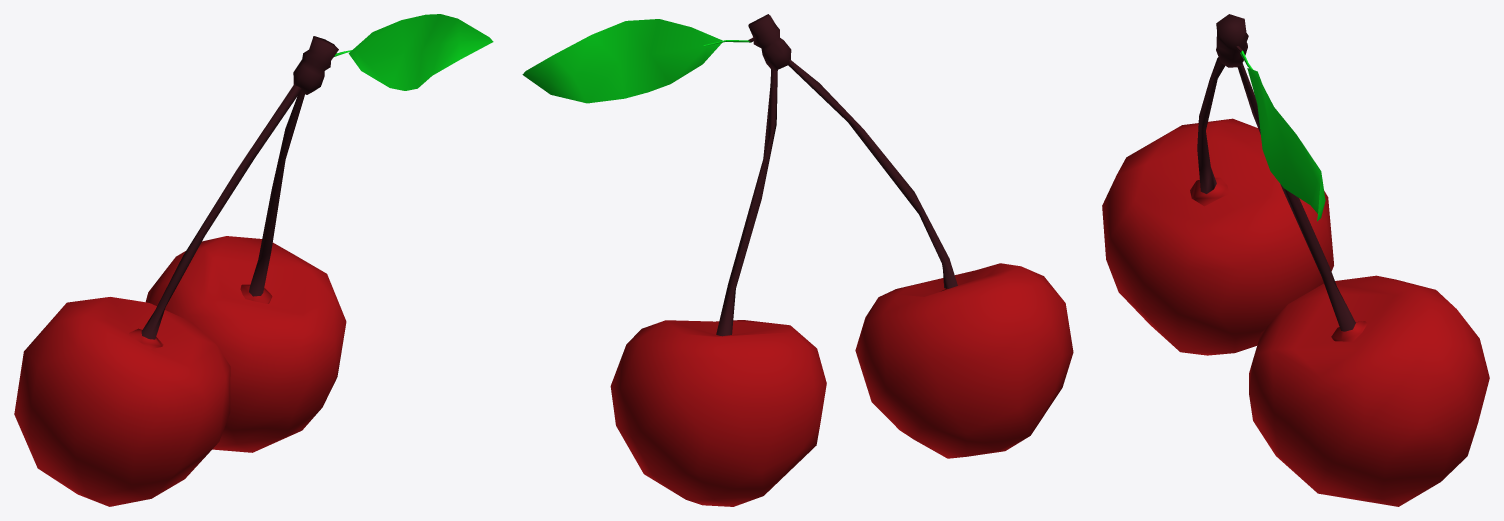
The model's file is Cherry1.fbx.
The picture shows the model from 3 angles, left to right: view 1: azimuth 30°, elevation 25°; view 2: azimuth 150°, elevation 25°; view 3: azimuth 270°, elevation 25°; orthographic projection. The views are drawn at different scales.
Visible parts, largest first — view 1: cherry; view 2: cherry; view 3: cherry.
Boxes of the visible parts, bbox=[...] form: cherry: bbox=[14, 14, 493, 506]; cherry: bbox=[522, 14, 1073, 506]; cherry: bbox=[1102, 14, 1489, 506].
Size of the model in its own units: 211 by 177 by 127.
